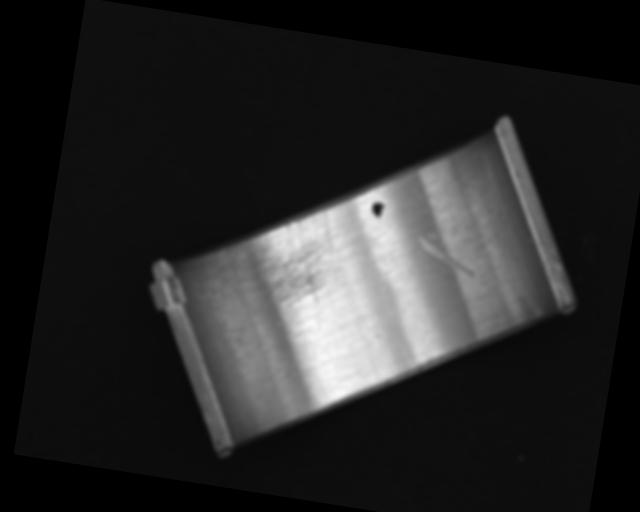blot: (369, 200, 385, 219)
nick: (413, 227, 480, 277), (399, 185, 433, 261)
scratch: (222, 193, 352, 315)
